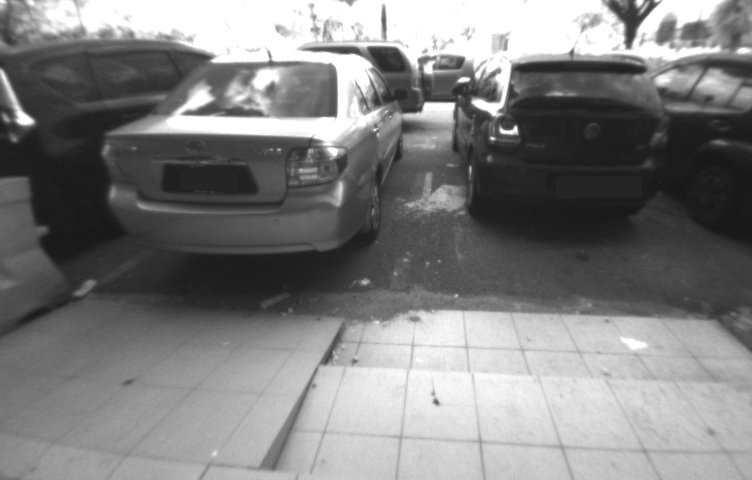down_steps: (292, 300, 752, 480)
mixed_gradient: (183, 307, 386, 479)
